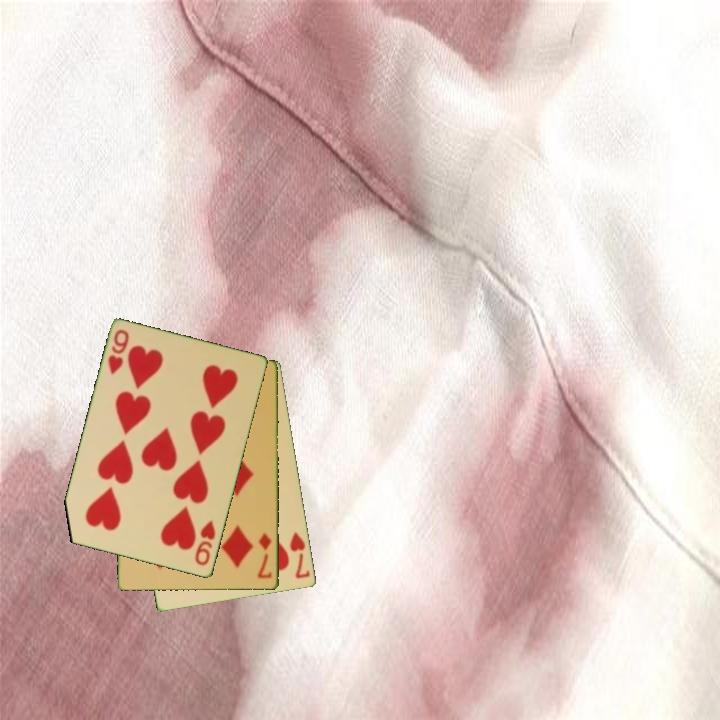7d: (254, 530, 275, 582)
7h: (286, 529, 313, 582)
9h: (192, 517, 219, 569), (105, 326, 132, 377)
